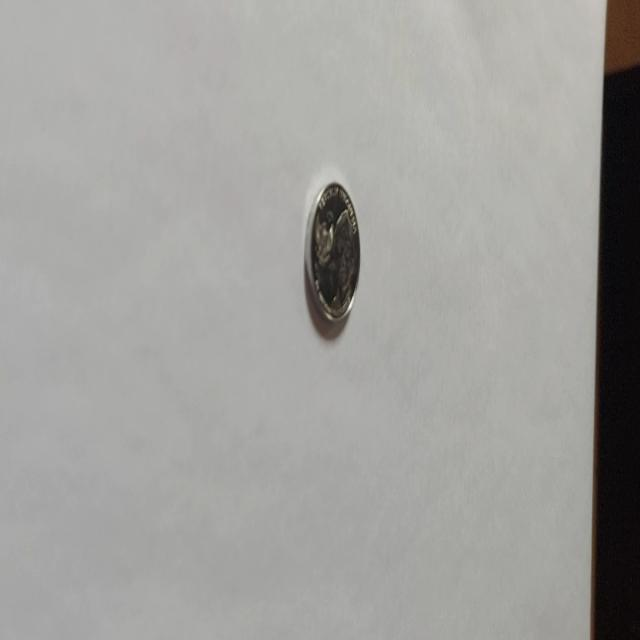dua ratus rupiah: (304, 180, 361, 328)
